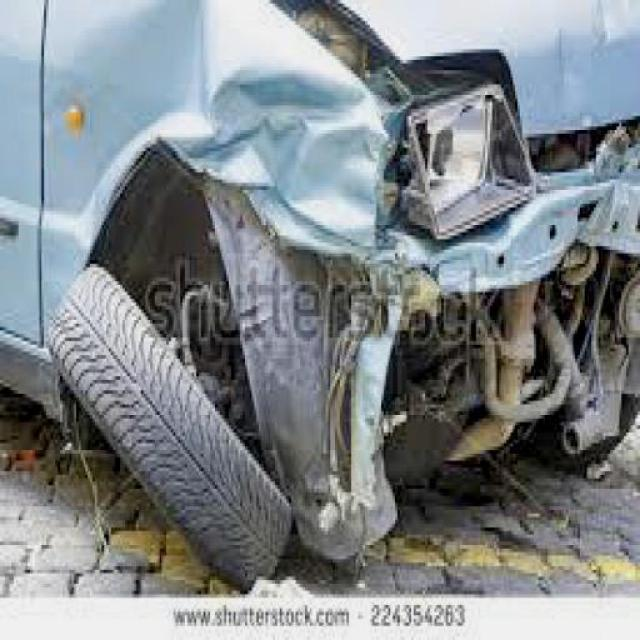car damage: (79, 13, 640, 564)
